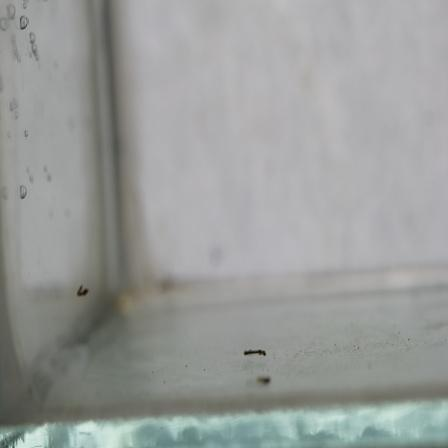Jentik-Nyamuk: (241, 344, 270, 360), (74, 283, 93, 300)
